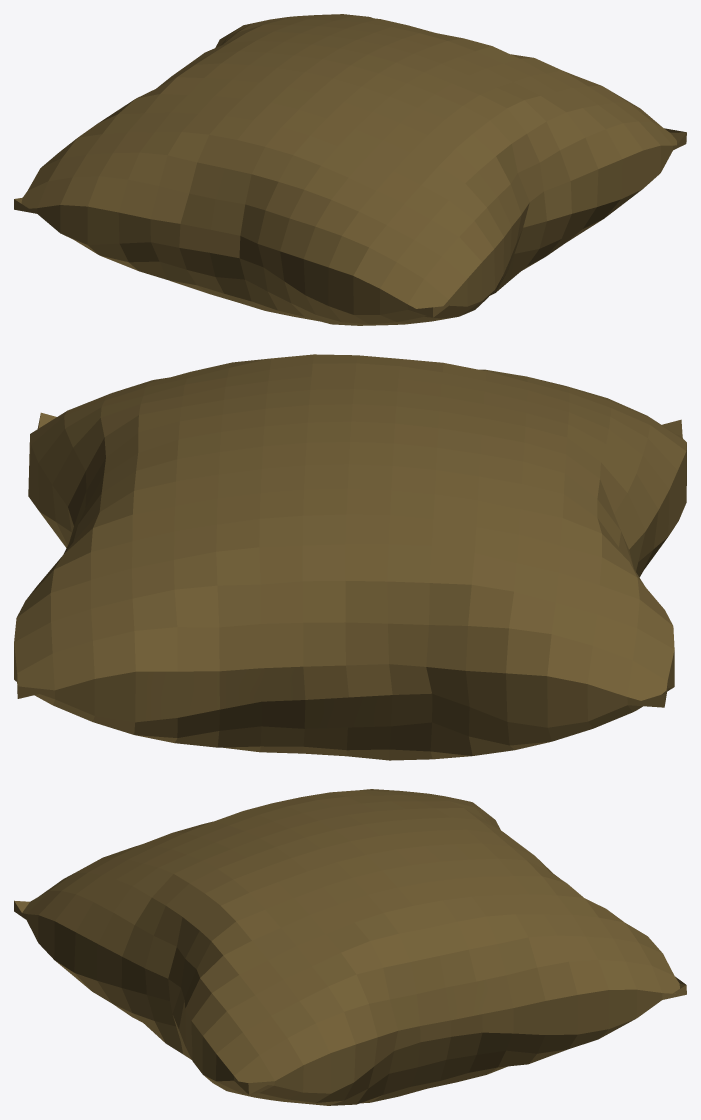
The model's file is perna sufragerie.fbx.
3 renders of one model, top to bottom at view 1: azimuth 30°, elevation 25°; view 2: azimuth 150°, elevation 25°; view 3: azimuth 270°, elevation 25°, orthographic. The views are drawn at different scales.
Parts seen in each view (by area): view 1: Cube.030; view 2: Cube.030; view 3: Cube.030.
Boxes of the visible parts, bbox=[...] form: Cube.030: bbox=[14, 14, 686, 325]; Cube.030: bbox=[14, 354, 686, 760]; Cube.030: bbox=[14, 789, 686, 1105].
Bounding box in the file's own units: 95.78 × 33.59 × 96.42.
